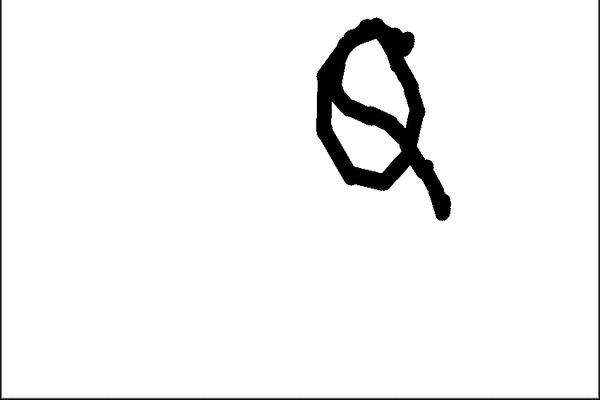Q: (303, 9, 456, 224)
